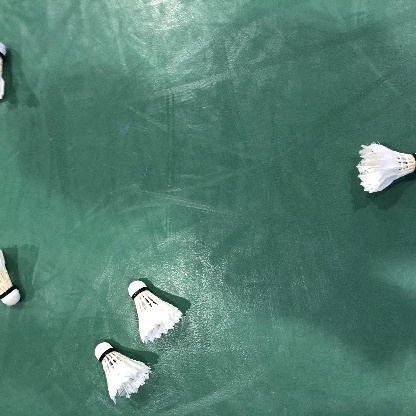ball_single: (95, 342, 152, 404), (128, 280, 183, 344), (356, 143, 416, 193), (0, 249, 21, 306)
